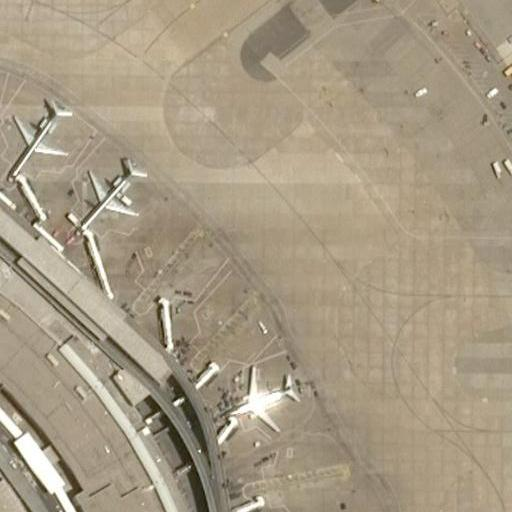Aircraft: (71, 150, 156, 237), (220, 350, 302, 440), (0, 87, 73, 184)
